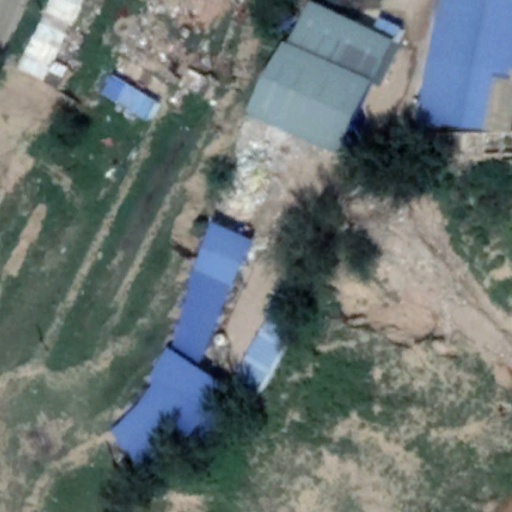msw: (232, 128, 285, 219)
